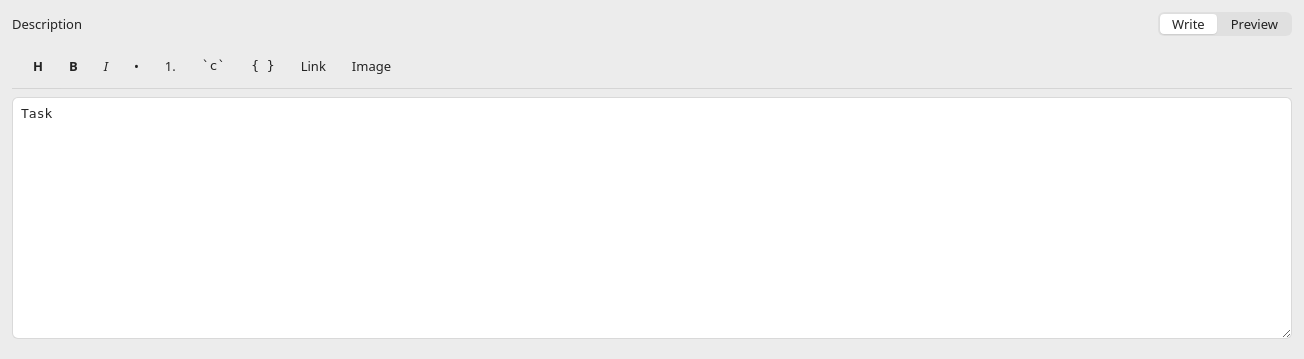
Test: DescriptionEditor toolbar (FR2) › Heading applies its command to the selection
Click the button named "Heading" at (38,66), box x1=24 y1=54 x2=52 y2=78
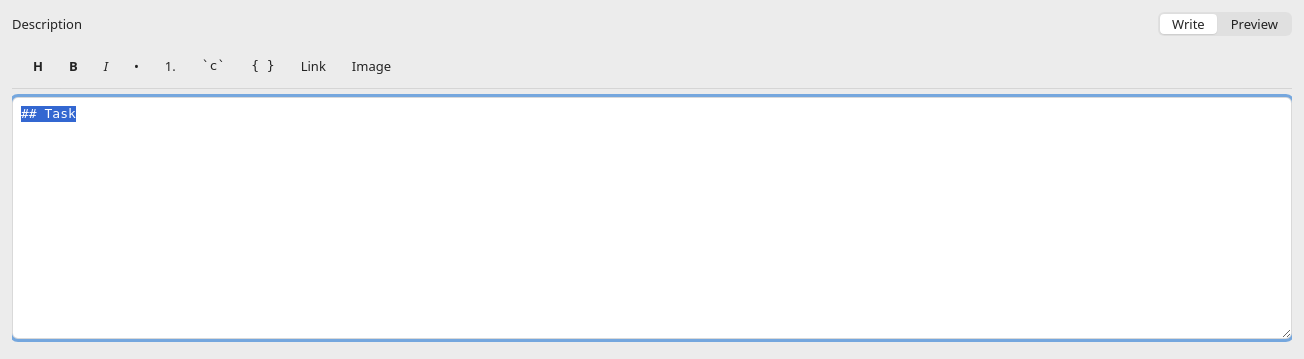
Result: the text box labelled "Description" holds "## Task"
